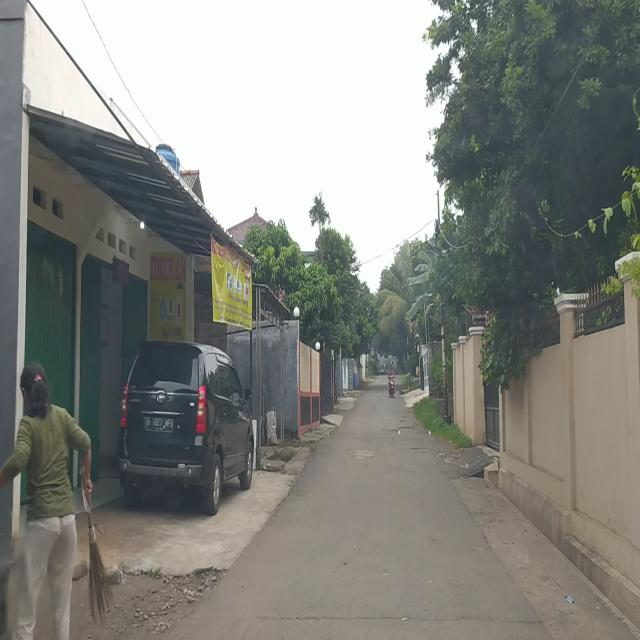Sewer Cover: (249, 613, 544, 624)
